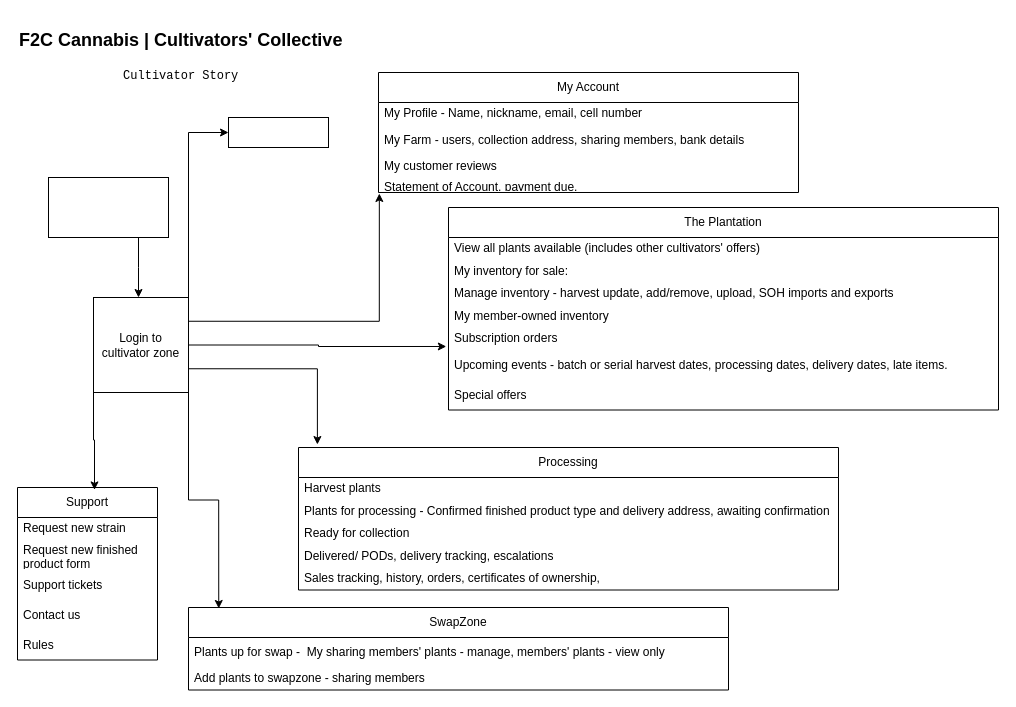
The diagram is 1016 pixels wide and 707 high, and some of its shapes have lost their labels. Each missing label, with the centre of its shape:
"f2c-cannabis.co.za" goes at [108,207].
"Notifications" goes at [278,132].
